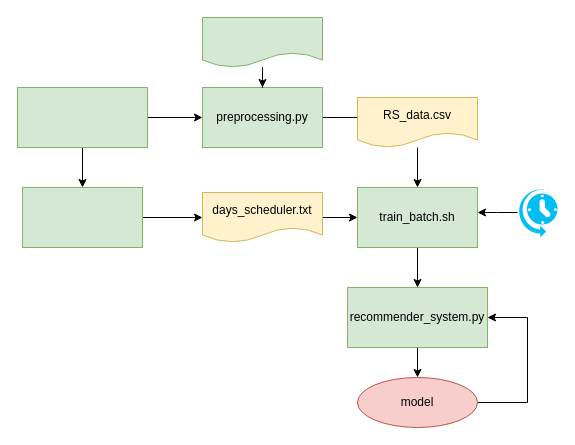
The diagram is 575 pixels wide and 445 high, and some of its shapes have lost their labels. Here are the shapes that lost their labels. From the top down, the box of each, then its label:
(202, 16, 322, 68): config.txt
(16, 86, 148, 148): run_preprocessing.sh
(22, 186, 142, 248): create_scheduler.py
